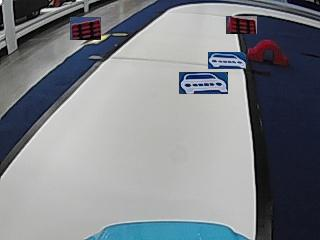bridge: (248, 38, 287, 66)
